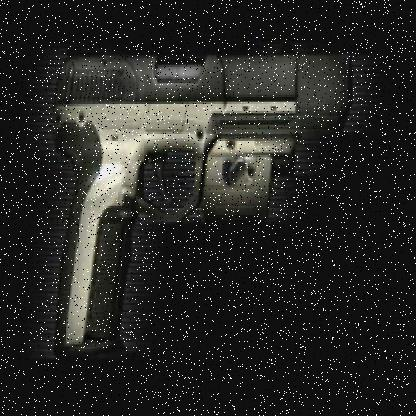pistol: (49, 37, 355, 367)
